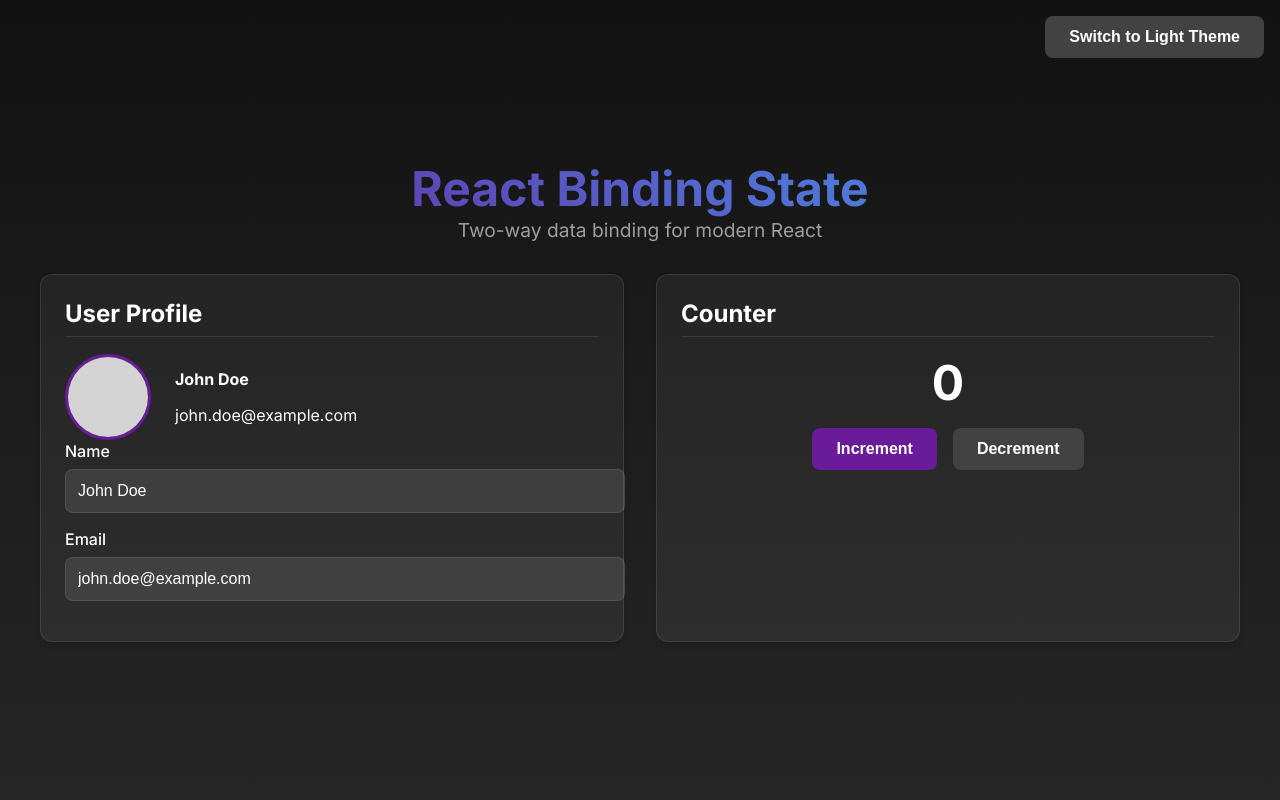
Test case: App › toggles the theme
What coordinates should you click on to do the following:
click the button "Switch to Light Theme"
I would click on:
 (1155, 37)
Its box is x1=1045 y1=16 x2=1264 y2=58.
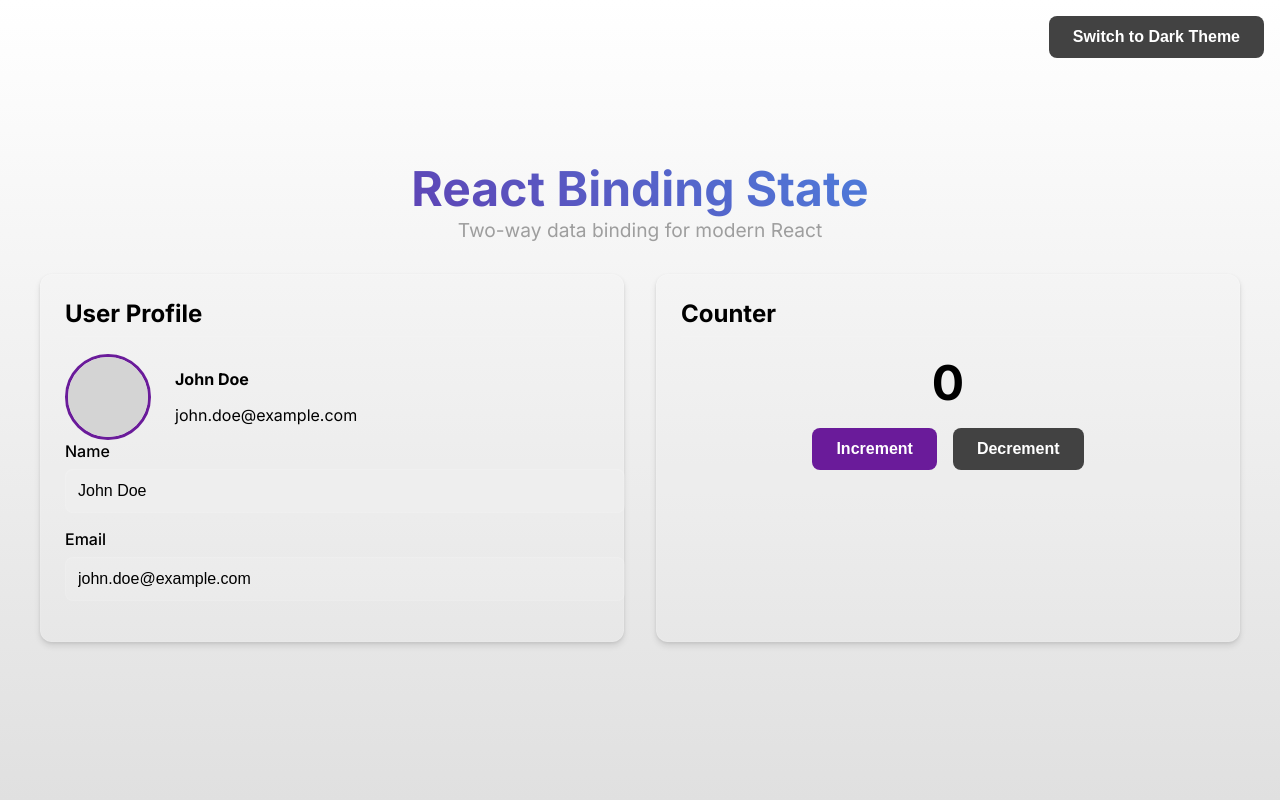
Now the button "Switch to Dark Theme" is shown, box x1=1049 y1=16 x2=1264 y2=58
